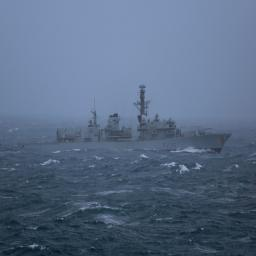Fragata: (17, 80, 234, 158)
